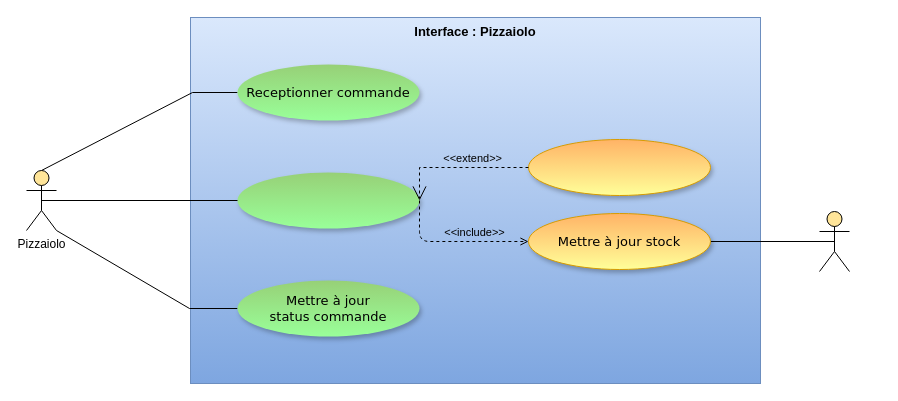
Some shapes in this 898 by 401 pixel diagram are drawn without their labels. Here are the shapes that lost their labels. From the top down, the centre of each, then its label:
At (620,168): "Consulter Aide-mémoire".
At (329,201): "Préparer commande".
At (834,241): "<<Systeme>> Base de données produits".
